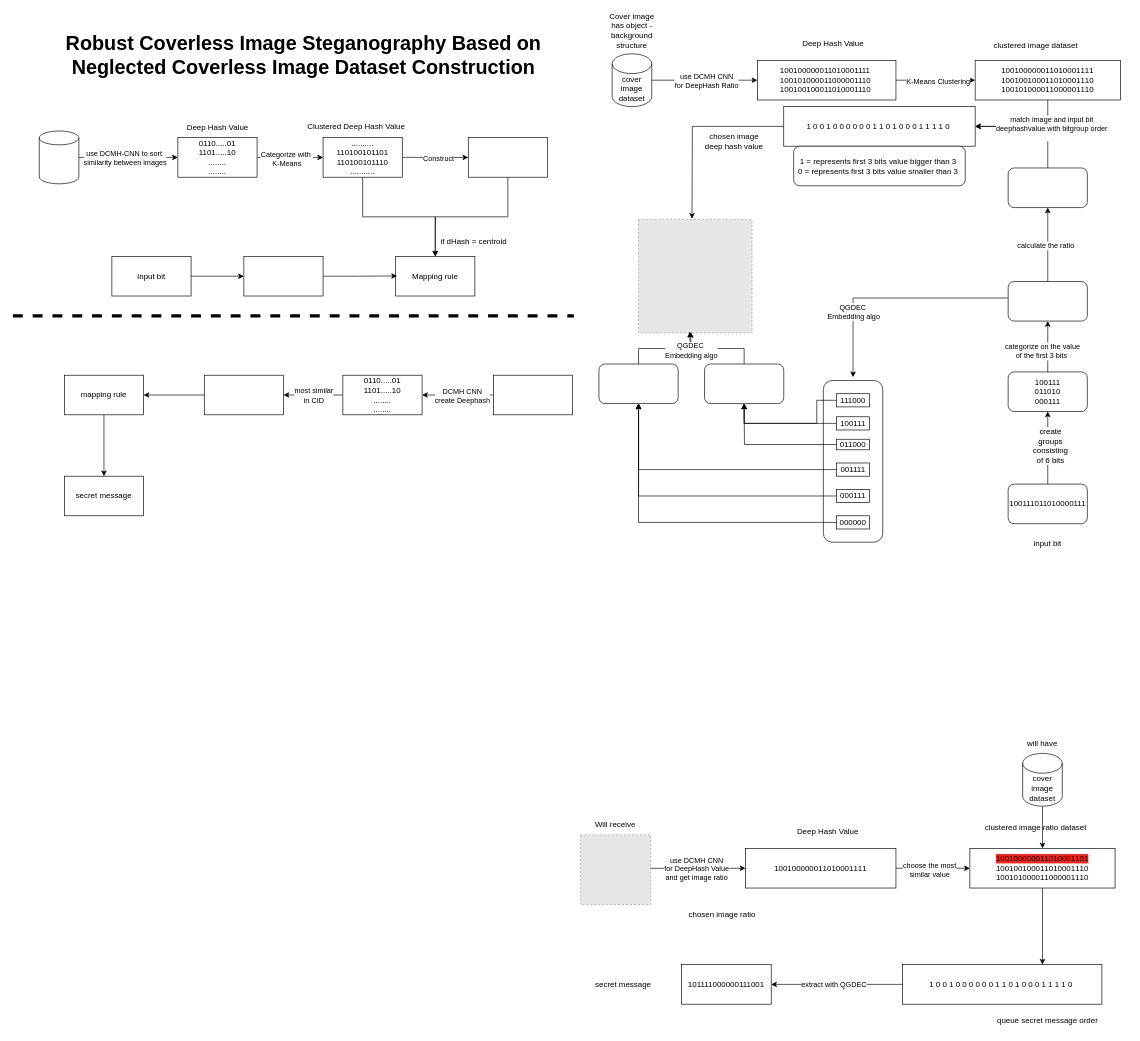
This 1140x1041 diagram has some shape labels left out. Grey dashed boxes stand in for pictures. Here are the shapes that lost their labels. From the top down, the centre of each, then its label:
At point (59, 157): "Original image dataset".
At point (507, 157): "Coverless Image Dataset".
At point (1047, 187): "The order of more than 3,-1".
At point (283, 276): "devided input bit".
At point (1047, 301): "more than: 3 = 100 111 -1 = 011 010".
At point (243, 395): "image from coverless image dataset".
At point (533, 395): "Chosen image".
At point (638, 383): "input into 2 pixels with difference > 193".
At point (744, 383): "input into 2 pixels with 193< difference > 128".
